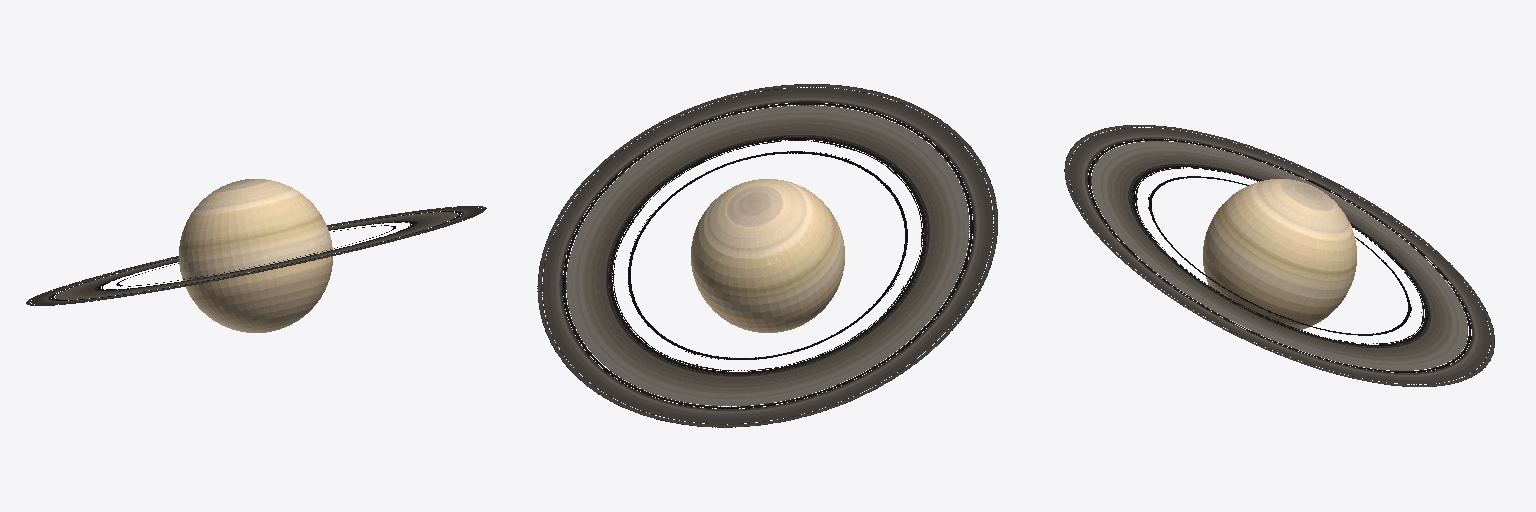
3 renders of one model, left to right at view 1: azimuth 30°, elevation 25°; view 2: azimuth 150°, elevation 25°; view 3: azimuth 270°, elevation 25°, orthographic.
Parts seen in each view (by area): view 1: Saturn_ID114, Rings_ID101; view 2: Rings_ID101, Saturn_ID114; view 3: Rings_ID101, Saturn_ID114.
Part boxes in pixels (bbox=[...]): Saturn_ID114: bbox=[179, 179, 332, 332]; Rings_ID101: bbox=[26, 206, 486, 305]; Rings_ID101: bbox=[537, 84, 997, 427]; Saturn_ID114: bbox=[691, 179, 844, 332]; Rings_ID101: bbox=[1064, 125, 1494, 386]; Saturn_ID114: bbox=[1203, 179, 1356, 329].
Size of the model in its own units: 35 by 14.08 by 32.04.
2 materials, 2 textured.